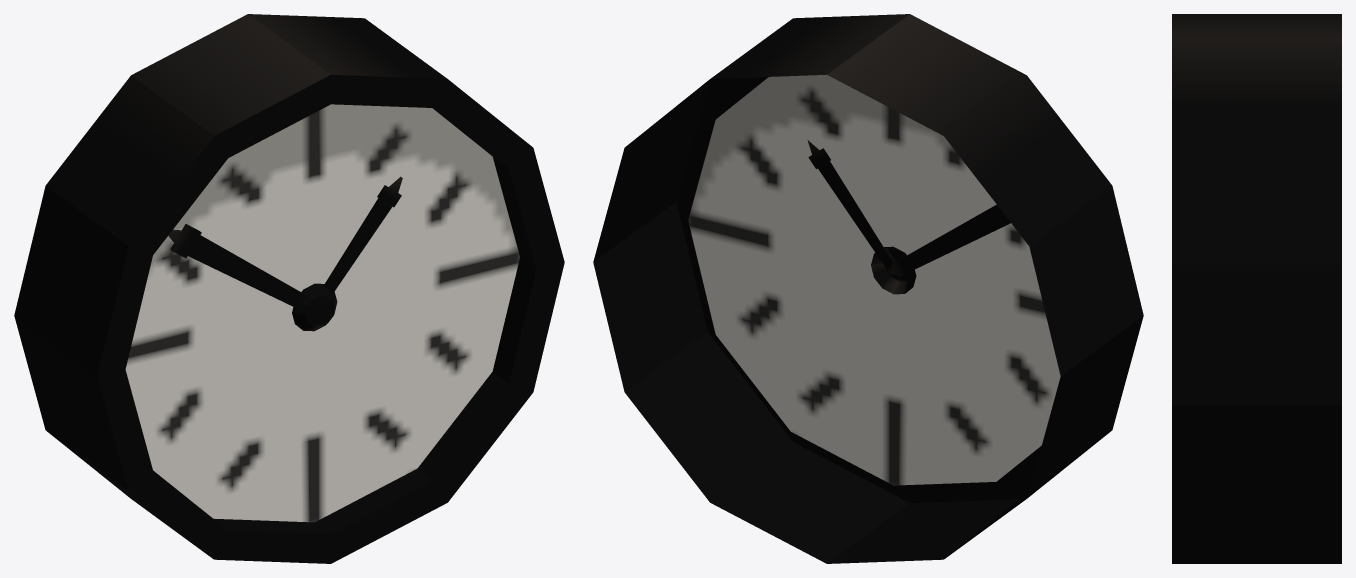
The model's file is obj_clock.fbx.
3 renders of one model, left to right at view 1: azimuth 30°, elevation 25°; view 2: azimuth 150°, elevation 25°; view 3: azimuth 270°, elevation 25°, orthographic. The views are drawn at different scales.
Parts seen in each view (by area): view 1: obj_clock; view 2: obj_clock; view 3: obj_clock.
Boxes of the visible parts, <box> form: obj_clock: <box>14,14,564,563</box>; obj_clock: <box>593,14,1143,563</box>; obj_clock: <box>1172,14,1341,563</box>.
Bounding box in the file's own units: 38.47 × 38.47 × 11.84.
